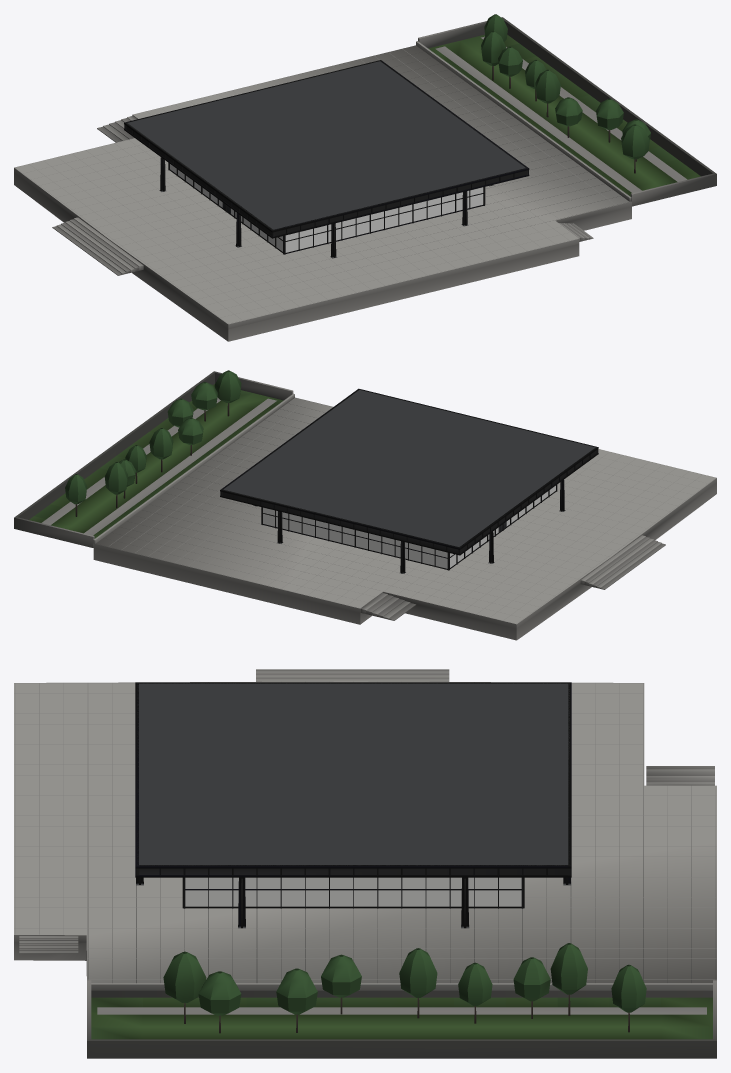
The model's file is nationalgalerie.glb.
3 renders of one model, top to bottom at view 1: azimuth 30°, elevation 25°; view 2: azimuth 150°, elevation 25°; view 3: azimuth 270°, elevation 25°, orthographic. The views are drawn at different scales.
Parts seen in each view (by area): view 1: lack, glas; view 2: lack, glas; view 3: lack, glas.
Part boxes in pixels (x1,y1,x2,y2): lack: (14,14,716,341); glas: (170,164,483,252); lack: (14,370,716,640); glas: (263,485,555,568); lack: (14,669,716,1058); glas: (185,877,521,906).
Size of the model in its own units: 137 by 14.82 by 105.
